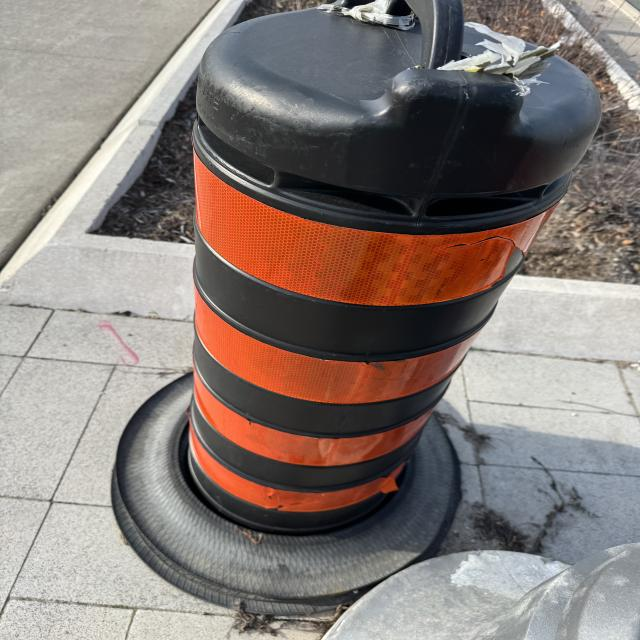Teraffic Barrel: (112, 0, 599, 613), (190, 119, 567, 533)
